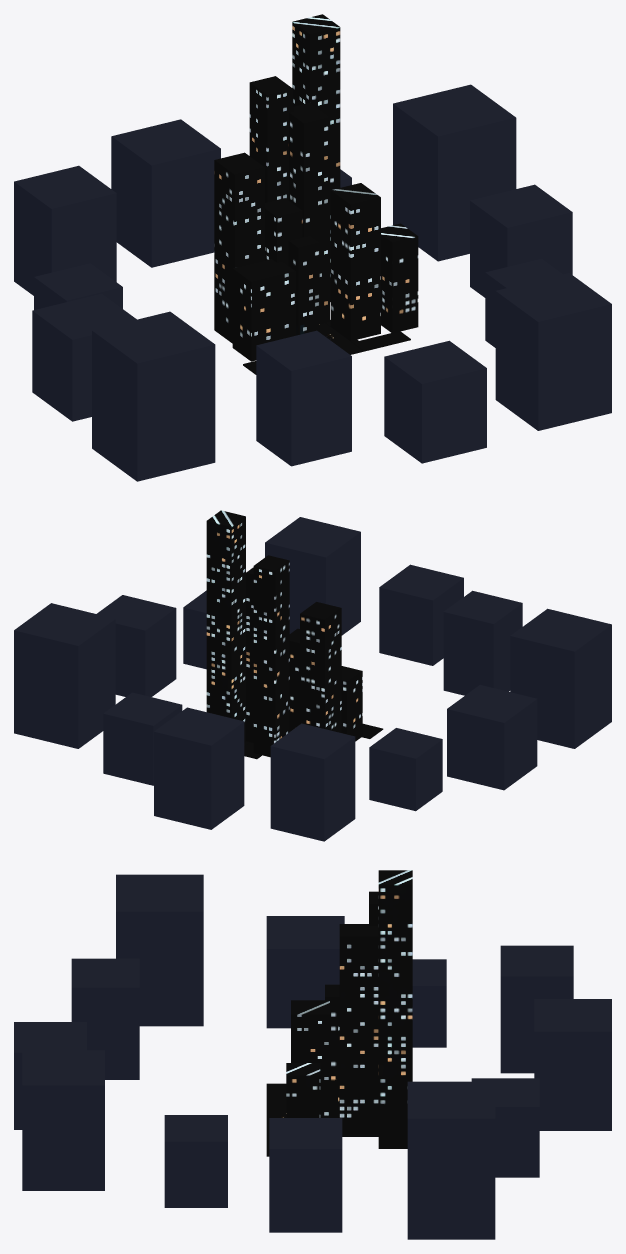
Rendered from city_scene.glb.
3 renders of one model, top to bottom at view 1: azimuth 30°, elevation 25°; view 2: azimuth 150°, elevation 25°; view 3: azimuth 270°, elevation 25°, orthographic. The views are drawn at different scales.
Visible parts, largest first — view 1: bldg_ring_08, bldg_ring_02, bldg_ring_05, bldg_ring_00, bldg_ring_07, bldg_ring_06, bldg_ring_11, bldg_ring_03, bldg_east, bldg_ring_09, bldg_nw, bldg_ne (+8 smaller); view 2: bldg_ring_02, bldg_ring_08, bldg_ring_00, bldg_ring_11, bldg_e2_far, bldg_ring_09, bldg_ring_05, bldg_n_far, bldg_ring_07, bldg_ring_06, bldg_ring_03, bldg_nw (+6 smaller); view 3: bldg_ring_02, bldg_ring_08, bldg_ring_05, bldg_ring_00, bldg_e2_far, bldg_ring_03, bldg_ne, bldg_ring_07, bldg_ring_09, bldg_ring_11, bldg_ring_04, bldg_ring_01 (+6 smaller).
Part boxes in pixels (x1,y1,x2,y2): bldg_ring_08: (92,311,215,481); bldg_ring_02: (393,84,516,261); bldg_ring_05: (495,273,611,430); bldg_ring_00: (111,119,220,267); bldg_ring_07: (256,330,351,466); bldg_ring_06: (384,340,486,463); bldg_ring_11: (14,165,116,295); bldg_ring_03: (470,184,572,297); bldg_east: (330,183,380,340); bldg_ring_09: (32,293,136,421); bldg_nw: (214,152,264,343); bldg_ne: (289,102,329,323); bldg_ring_02: (14,603,115,748); bldg_ring_08: (510,608,611,748); bldg_ring_00: (154,707,244,829); bldg_ring_11: (270,723,355,841); bldg_e2_far: (206,510,245,742); bldg_ring_09: (447,685,537,790); bldg_ring_05: (265,517,360,635); bldg_n_far: (253,555,289,757); bldg_ring_07: (443,590,522,695); bldg_ring_06: (379,564,463,665); bldg_ring_03: (97,595,176,696); bldg_nw: (300,602,341,732); bldg_ring_02: (407,1081,495,1239); bldg_ring_08: (116,874,203,1026); bldg_ring_05: (22,1050,104,1190); bldg_ring_00: (534,999,611,1130); bldg_e2_far: (378,870,412,1148); bldg_ring_03: (269,1118,342,1232); bldg_ne: (339,924,378,1134); bldg_ring_07: (71,958,139,1079); bldg_ring_09: (266,916,344,1028); bldg_ring_11: (500,945,573,1073); bldg_ring_04: (164,1115,227,1207); bldg_ring_01: (471,1078,539,1177).
Size of what is drawn, in the model's own units: 244 by 121 by 246.
Materials: 34 (20 with a texture image).
